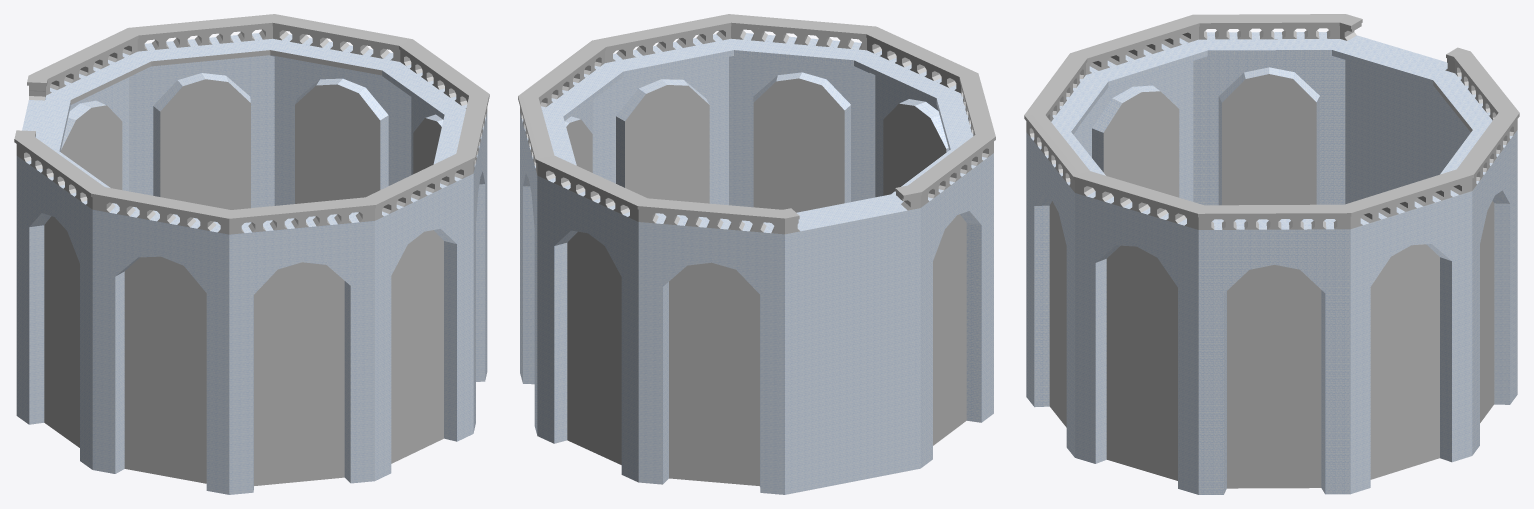
The model's file is AreaColumnV2.fbx.
3 renders of one model, left to right at view 1: azimuth 30°, elevation 25°; view 2: azimuth 150°, elevation 25°; view 3: azimuth 270°, elevation 25°, orthographic.
Visible parts, largest first — view 1: AreaColumnGeneric; view 2: AreaColumnGeneric; view 3: AreaColumnGeneric.
Boxes of the visible parts, left/top/right/bottom form: AreaColumnGeneric: left=14, top=14, right=489, bottom=494; AreaColumnGeneric: left=518, top=14, right=995, bottom=494; AreaColumnGeneric: left=1024, top=14, right=1519, bottom=494.
Bounding box in the file's own units: 5776 × 3800 × 6051.
